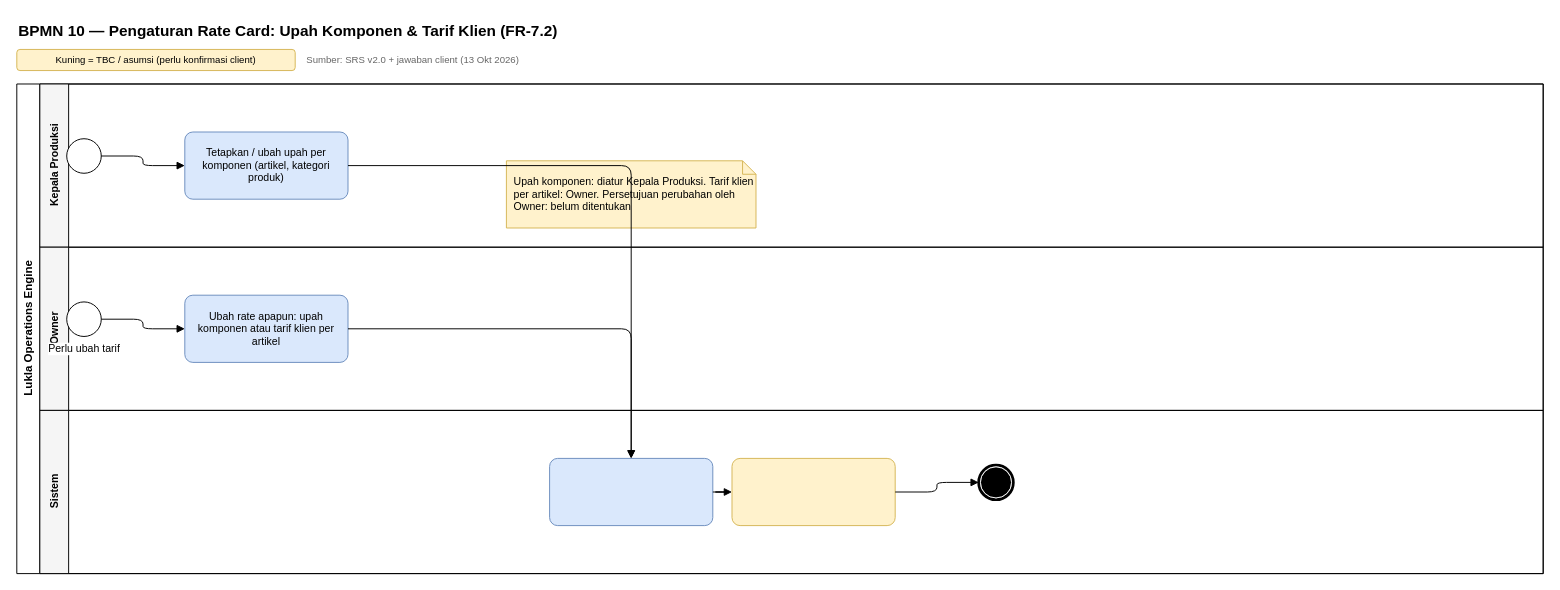
Some shapes in this 1560 by 590 pixel diagram are drawn without their labels. The shapes that lost their labels are listed below. From the top down, each one's box as (x1, y1, x2, y2) in pixels, then its label:
(66, 138, 101, 173): Upah komponen berubah
(549, 457, 713, 526): Simpan versi baru + tanggal berlaku; riwayat tercatat
(731, 457, 895, 526): Output yang sudah tercatat tetap memakai rate lama (A)
(978, 464, 1013, 500): Rate card aktif
